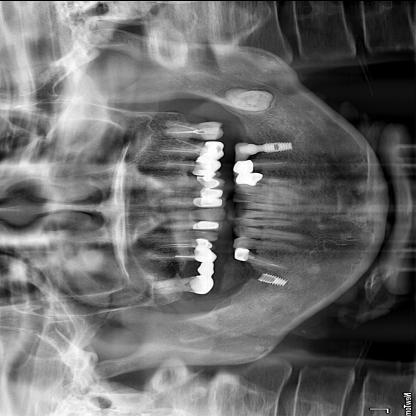Bicon: (259, 266, 297, 289), (262, 139, 291, 153)
